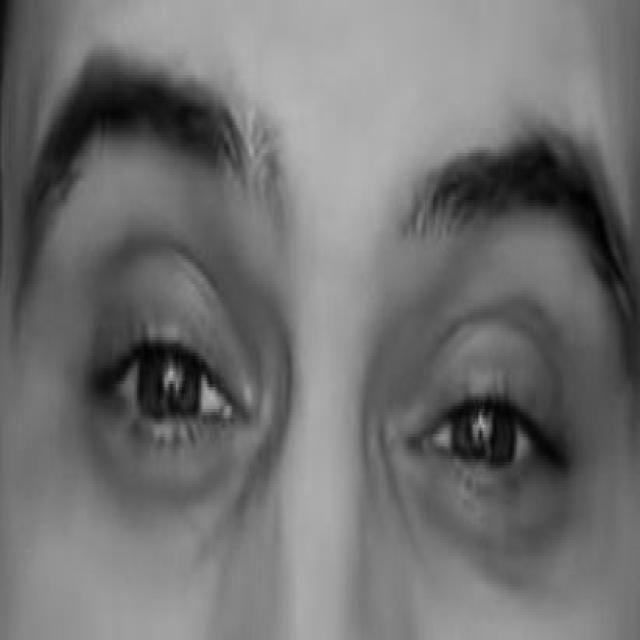real: (48, 191, 598, 597)
